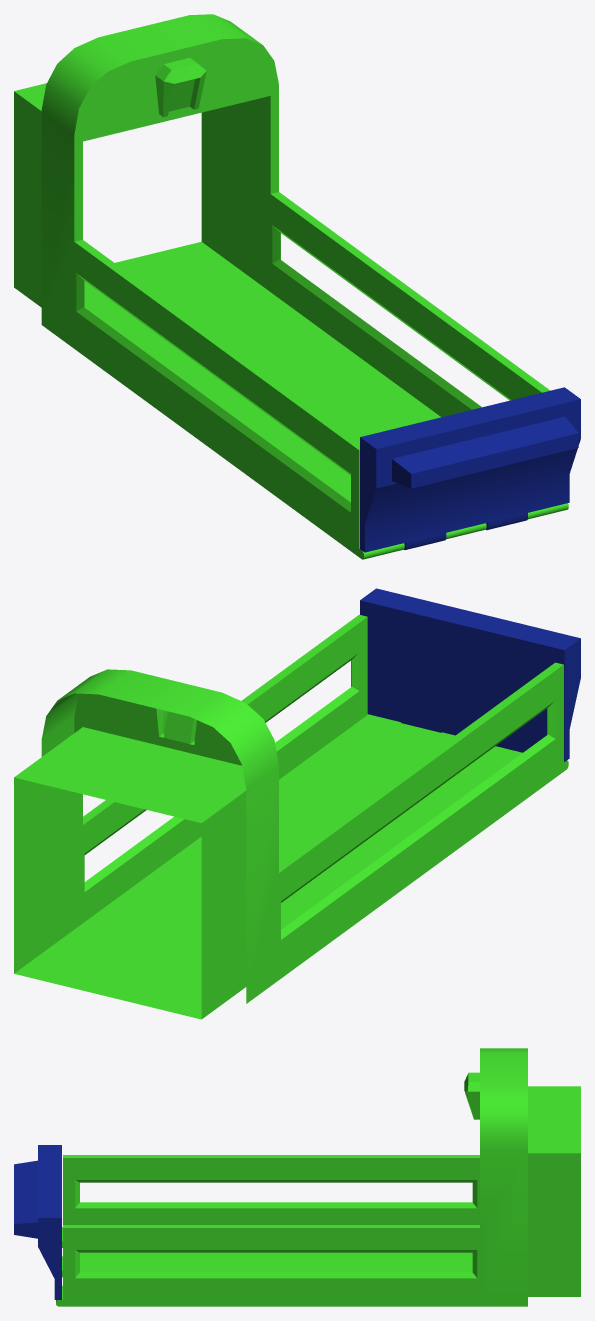
Rendered from Most.fbx.
3 views of the same model, one above another, from view 1: azimuth 30°, elevation 25°; view 2: azimuth 150°, elevation 25°; view 3: azimuth 270°, elevation 25° (orthographic). The views are drawn at different scales.
Parts seen in each view (by area): view 1: Most, MostAdd; view 2: Most, MostAdd; view 3: Most, MostAdd.
Boxes of the visible parts, x1,y1,x2,y2 form: Most: (14, 14, 568, 559); MostAdd: (360, 387, 580, 552); Most: (14, 614, 568, 1019); MostAdd: (360, 588, 580, 761); Most: (56, 1048, 580, 1306); MostAdd: (14, 1145, 61, 1299).
Size of the model in its own units: 0.72 by 2.36 by 0.92.
